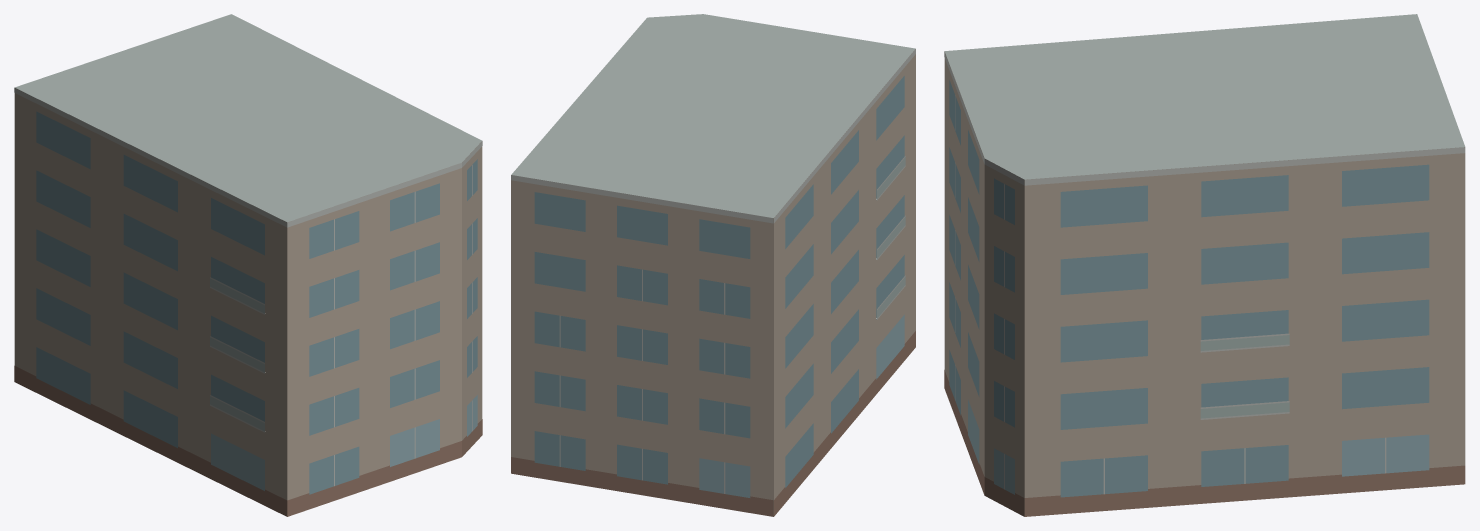
Rendered from survey-upis-33047426.glb.
The picture shows the model from 3 angles, left to right: view 1: azimuth 30°, elevation 25°; view 2: azimuth 150°, elevation 25°; view 3: azimuth 270°, elevation 25°; orthographic projection. The views are drawn at different scales.
Parts seen in each view (by area): view 1: survey-upis-33047426.tmp; view 2: survey-upis-33047426.tmp; view 3: survey-upis-33047426.tmp.
Boxes of the visible parts, box(x1,y1,x2,y2) form: survey-upis-33047426.tmp: box(14, 14, 482, 516); survey-upis-33047426.tmp: box(511, 14, 915, 516); survey-upis-33047426.tmp: box(944, 14, 1465, 516).
Size of the model in its own units: 14.28 by 13.55 by 18.97.
